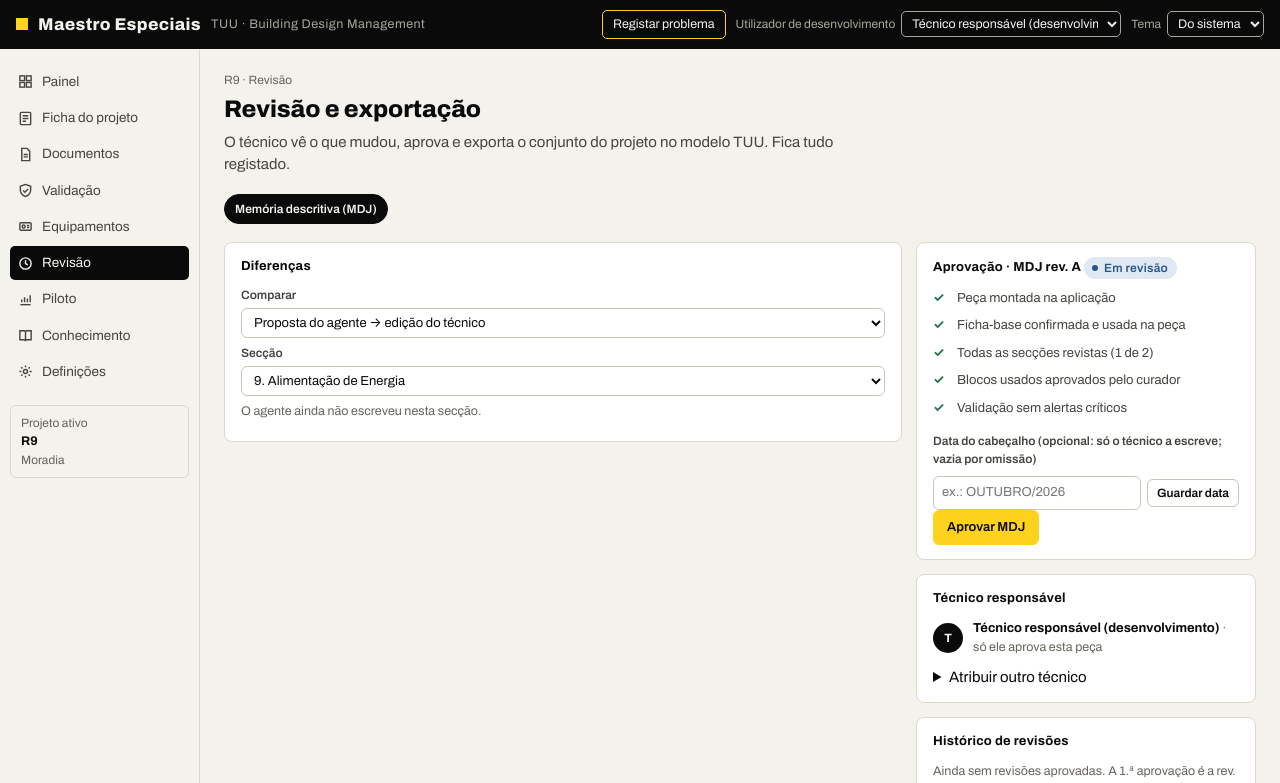
review and export (screen H) › lets the técnico assigned approve when every condition is met
Click the button "Aprovar MDJ".
click(986, 528)  # box [933, 510, 1039, 545]
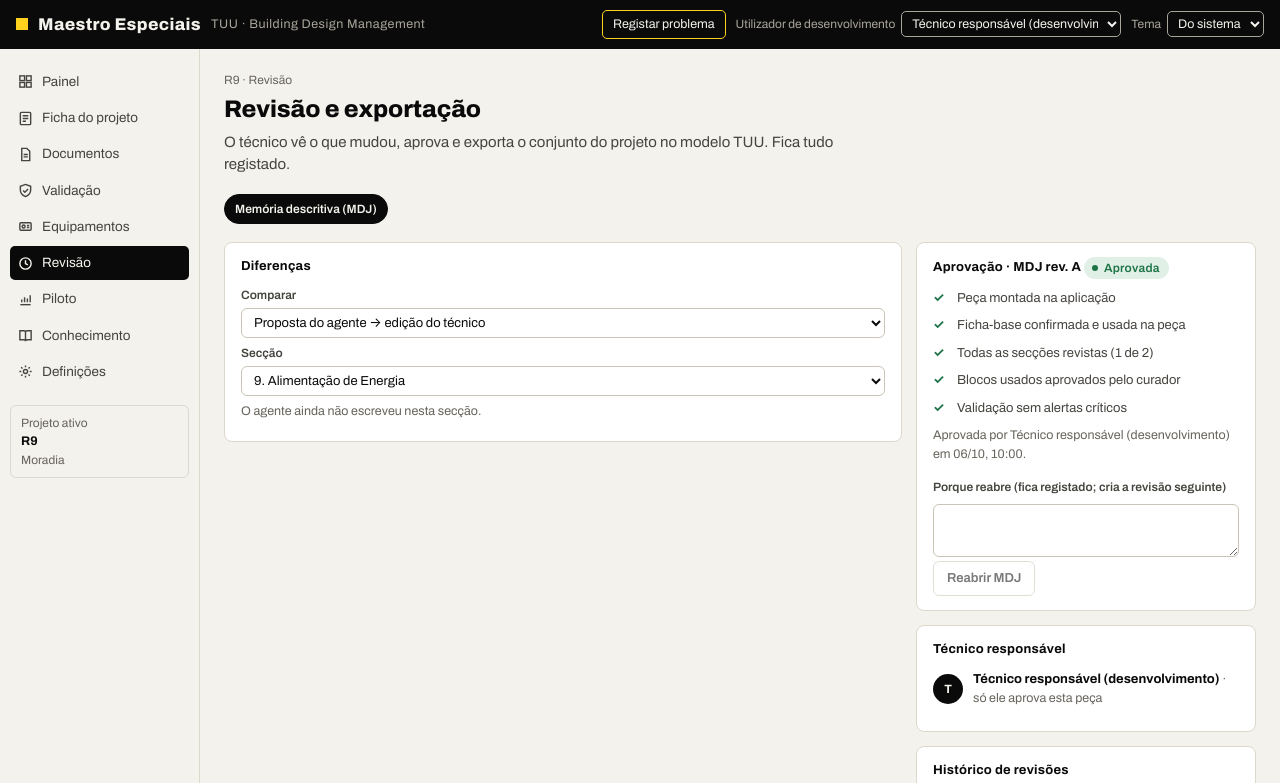
Now the button "Reabrir MDJ" is disabled, box [933, 561, 1036, 596]
Now the text "Aprovada por Técnico responsável" is shown, box [933, 426, 1239, 464]
